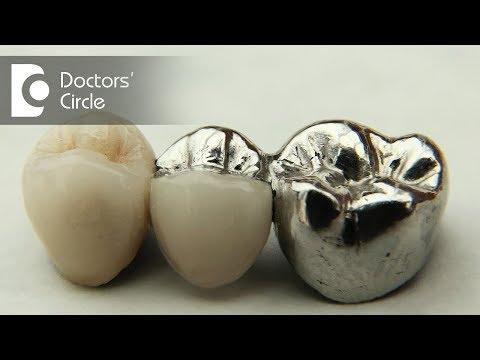crown: (269, 116, 454, 307), (147, 115, 268, 192)
